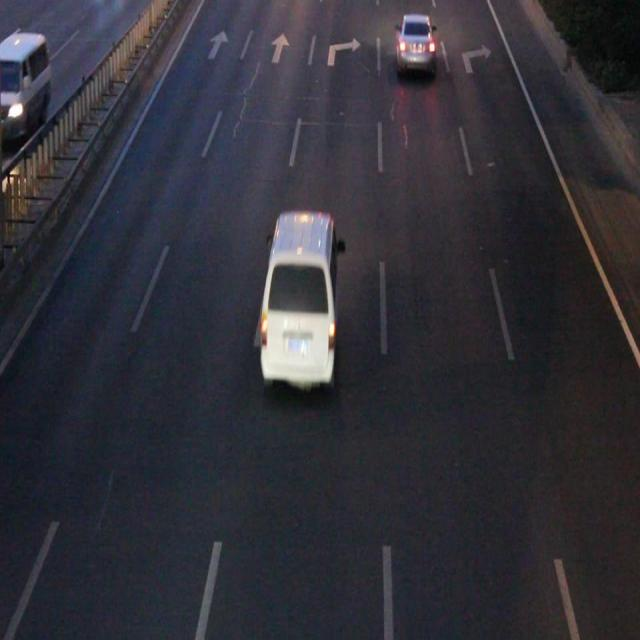car: (396, 17, 434, 66)
truck: (260, 212, 335, 384)
